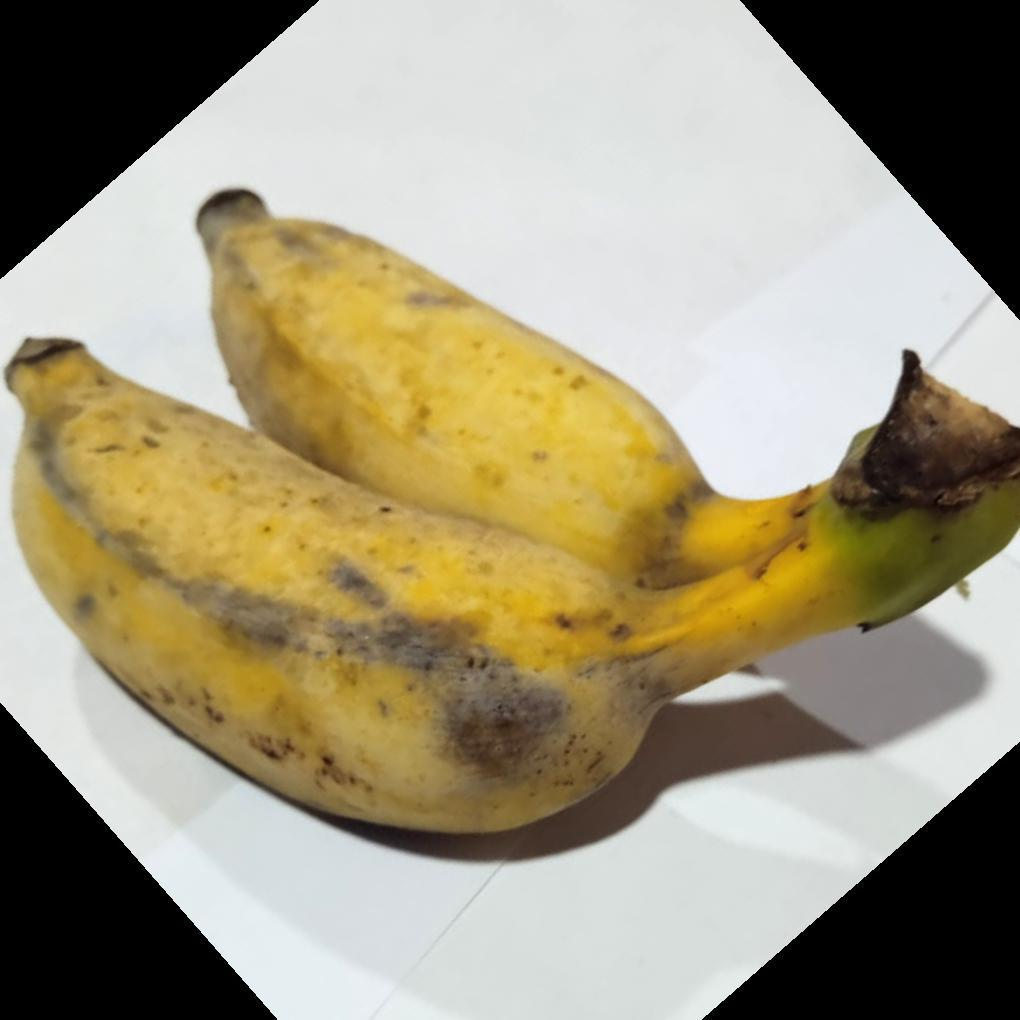Banana Ripe: (2, 299, 1020, 863), (183, 176, 996, 584)
